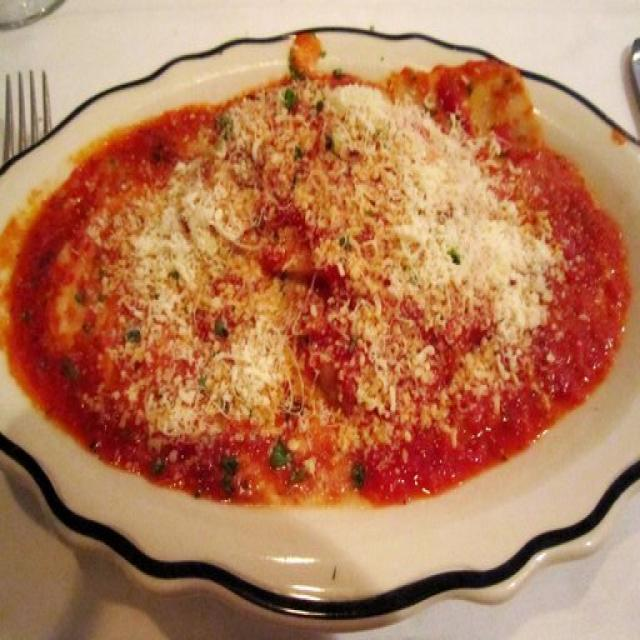Lasagna: (133, 63, 533, 429)
